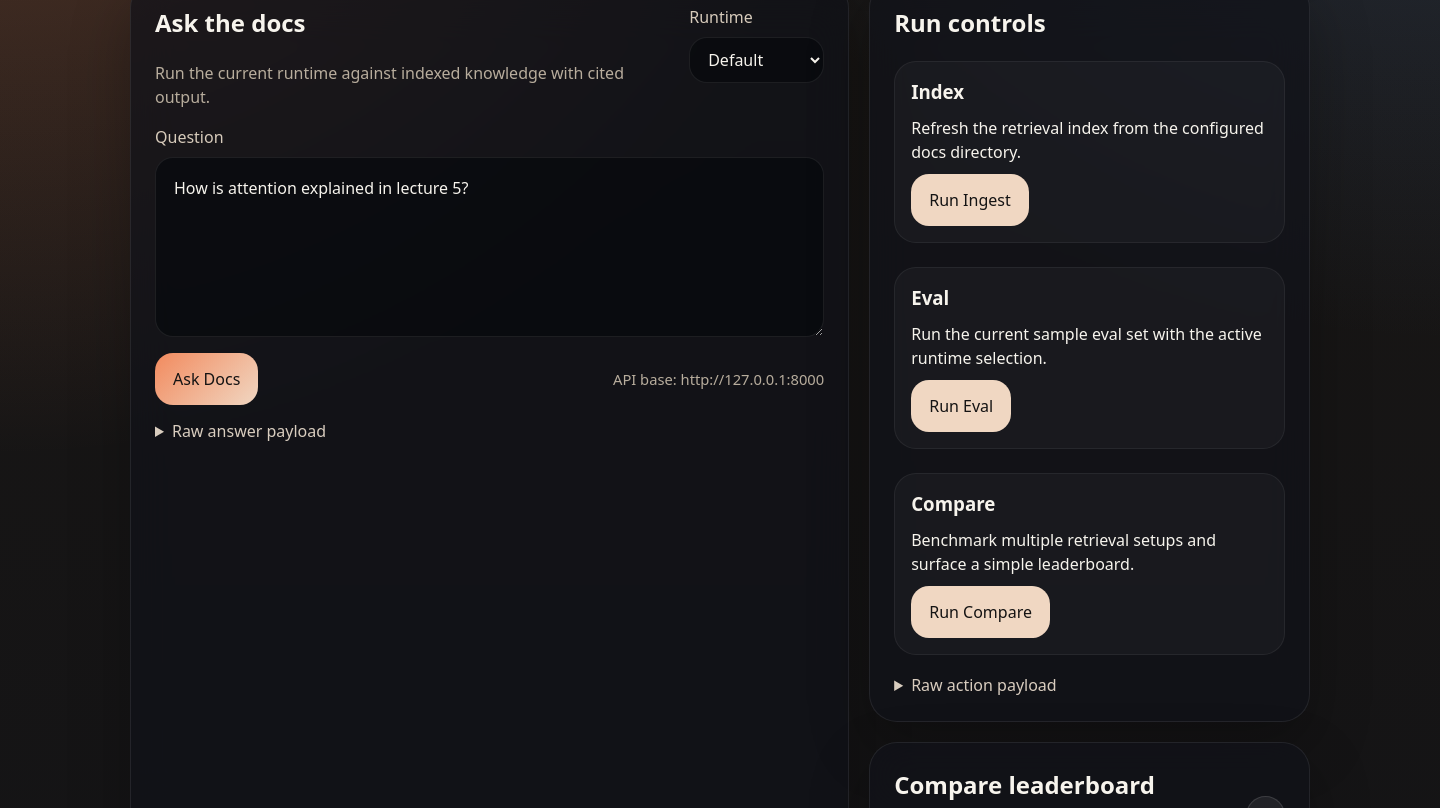
Scenario: shows action failures and clears them after a successful retry
The width and height of the screenshot is (1440, 808).
(page scrolled)
Click the button "Run Eval": (961, 406) [911,380,1011,432]
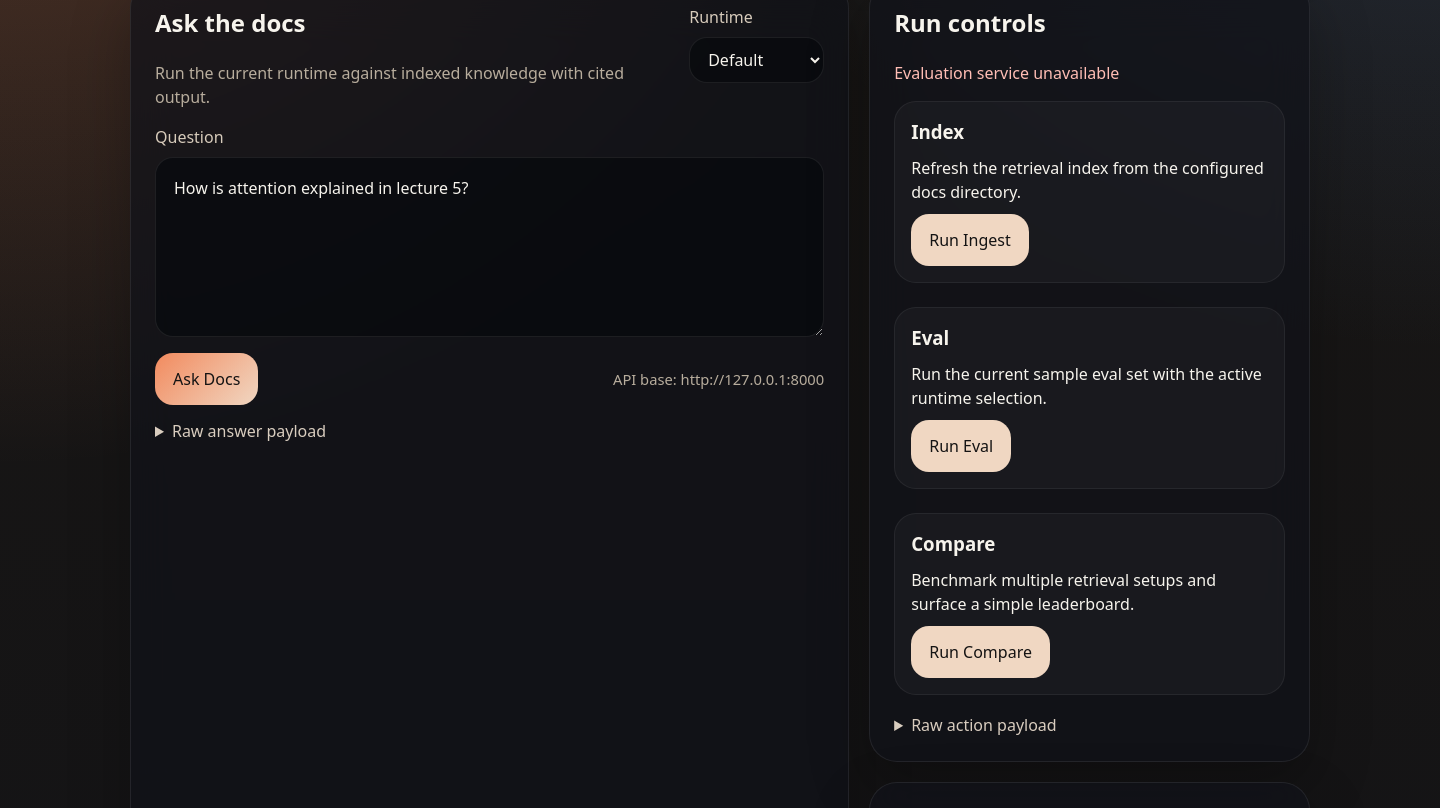
Result: the message reads "Evaluation service unavailable" at [894,62,1119,84]
Click the button "Run Eval": (961, 446) [911,420,1011,472]
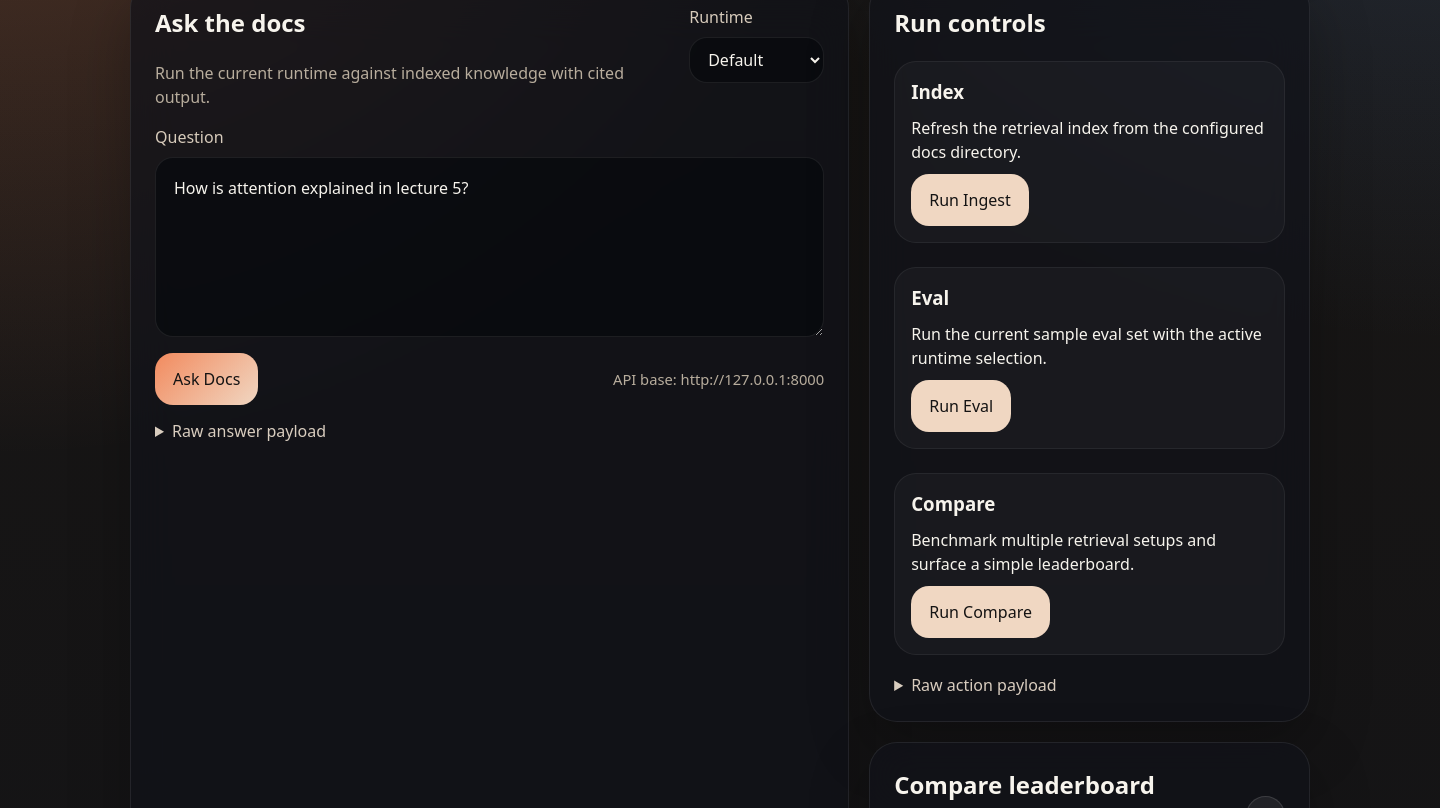
Result: the message "Evaluation service unavailable" is gone
